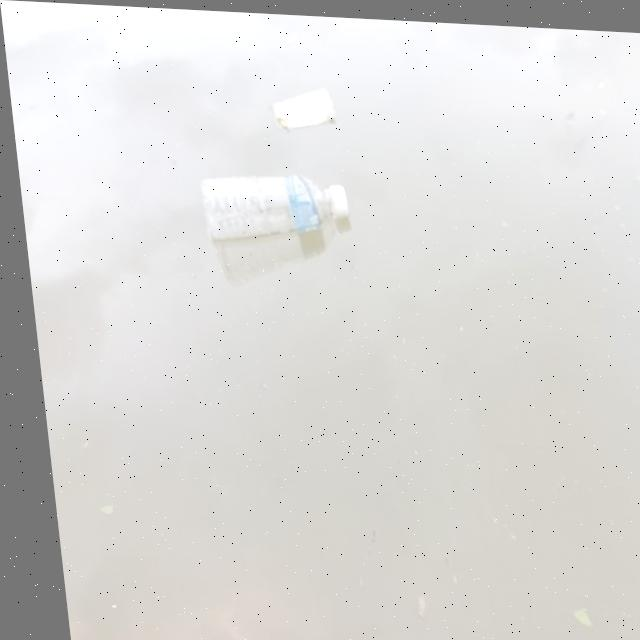paper: (247, 79, 348, 156)
waterbottle: (141, 160, 369, 273)
